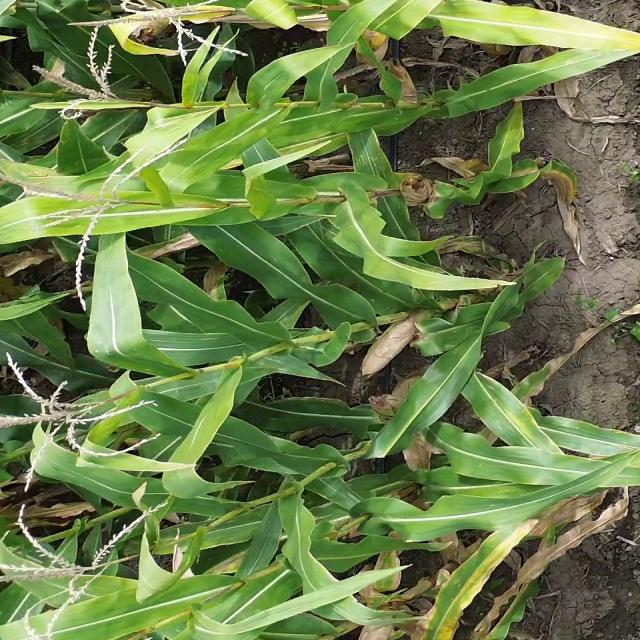gray-leaf-spot: (350, 146, 392, 177)
northern-leaf-blight: (509, 161, 568, 186)
